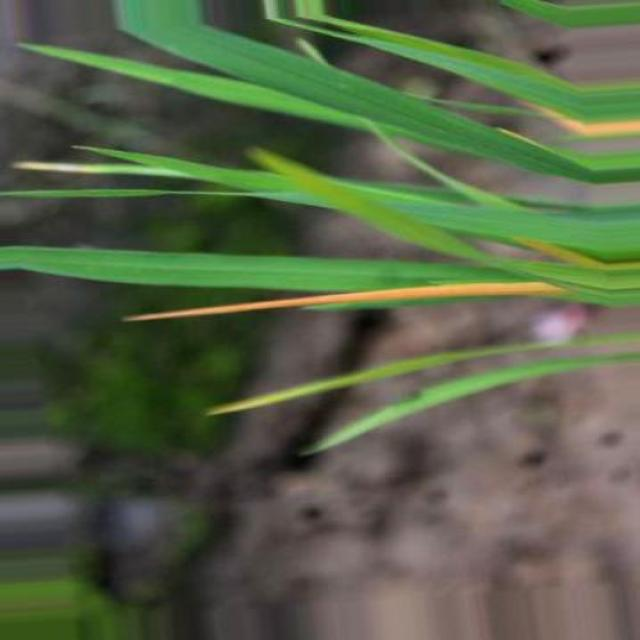Rice Tungro: (122, 281, 564, 322)
